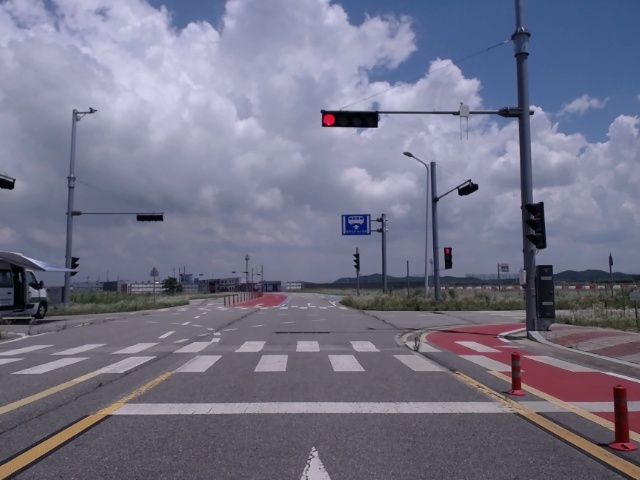red_4: (322, 112, 378, 128)
